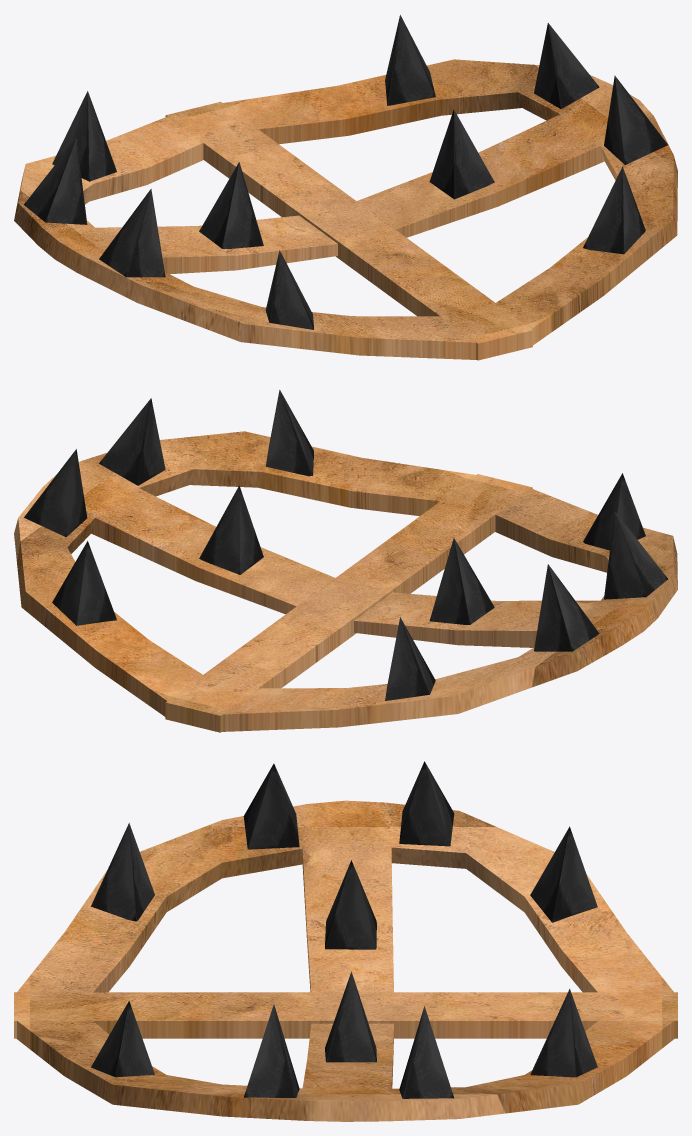
File: 野兽夹沙漠.FBX
3 views of the same model, one above another, from view 1: azimuth 30°, elevation 25°; view 2: azimuth 150°, elevation 25°; view 3: azimuth 270°, elevation 25° (orthographic). The views are drawn at different scales.
Visible parts, largest first — view 1: Tube003, Tube002, Box001, Hedra004, Hedra002, Hedra005, Hedra012, Hedra009, Hedra011, Hedra010, Hedra008, Hedra001 (+1 smaller); view 2: Tube003, Tube002, Box001, Hedra002, Hedra004, Hedra011, Hedra005, Hedra012, Hedra008, Hedra009, Hedra010, Hedra001 (+1 smaller); view 3: Tube002, Tube003, Box001, Hedra001, Hedra003, Hedra004, Hedra008, Hedra002, Hedra005, Hedra011, Hedra012, Hedra009 (+1 smaller).
Part boxes in pixels (bbox=[...]): Tube003: bbox=[222, 59, 677, 345]; Tube002: bbox=[14, 116, 476, 359]; Box001: bbox=[165, 101, 532, 360]; Hedra004: bbox=[99, 189, 165, 277]; Hedra002: bbox=[24, 138, 87, 224]; Hedra005: bbox=[199, 162, 263, 248]; Hedra012: bbox=[429, 109, 494, 199]; Hedra009: bbox=[534, 23, 599, 108]; Hedra011: bbox=[604, 75, 667, 164]; Hedra010: bbox=[583, 166, 645, 254]; Hedra008: bbox=[385, 15, 435, 105]; Hedra001: bbox=[52, 91, 116, 181]; Tube003: bbox=[14, 431, 475, 716]; Tube002: bbox=[222, 488, 677, 731]; Box001: bbox=[165, 474, 532, 732]; Hedra002: bbox=[534, 564, 599, 651]; Hedra004: bbox=[604, 511, 667, 599]; Hedra011: bbox=[99, 398, 165, 485]; Hedra005: bbox=[429, 538, 494, 624]; Hedra012: bbox=[199, 485, 263, 574]; Hedra008: bbox=[52, 541, 116, 625]; Hedra009: bbox=[24, 449, 87, 537]; Hedra010: bbox=[265, 390, 313, 476]; Hedra001: bbox=[385, 617, 435, 700]; Tube002: bbox=[17, 800, 673, 992]; Tube003: bbox=[16, 1020, 674, 1121]; Box001: bbox=[14, 992, 677, 1038]; Hedra001: bbox=[530, 826, 597, 922]; Hedra003: bbox=[91, 823, 154, 921]; Hedra004: bbox=[243, 763, 299, 849]; Hedra008: bbox=[530, 989, 597, 1077]; Hedra002: bbox=[399, 761, 454, 846]; Hedra005: bbox=[325, 860, 376, 949]; Hedra011: bbox=[244, 1004, 299, 1097]; Hedra012: bbox=[325, 971, 376, 1062]; Hedra009: bbox=[399, 1006, 453, 1098].
Size of the model in its own units: 83.2 by 18 by 76.4.
